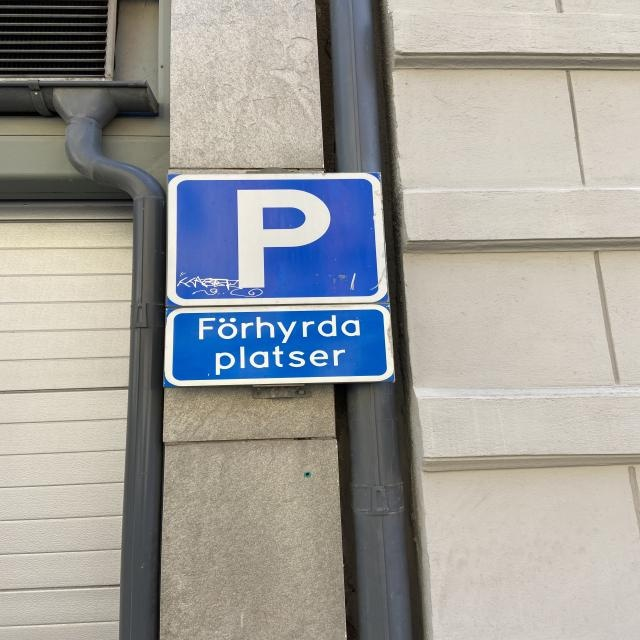P-skylt: (164, 171, 390, 304)
